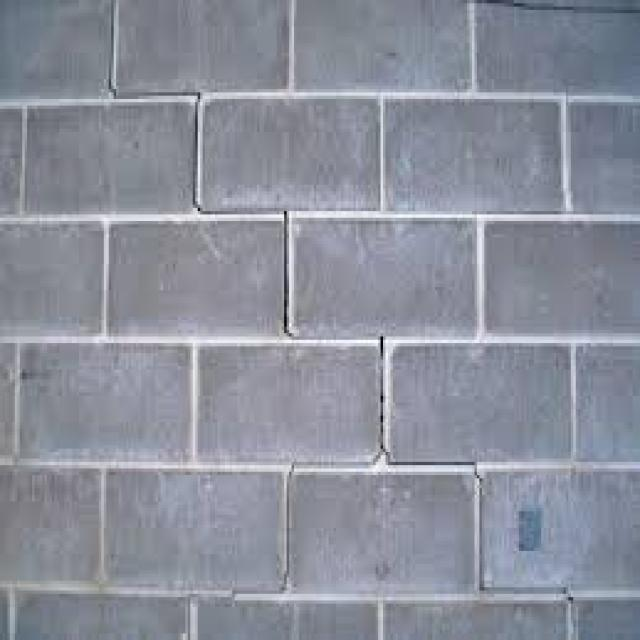Crack: (101, 0, 487, 597)
